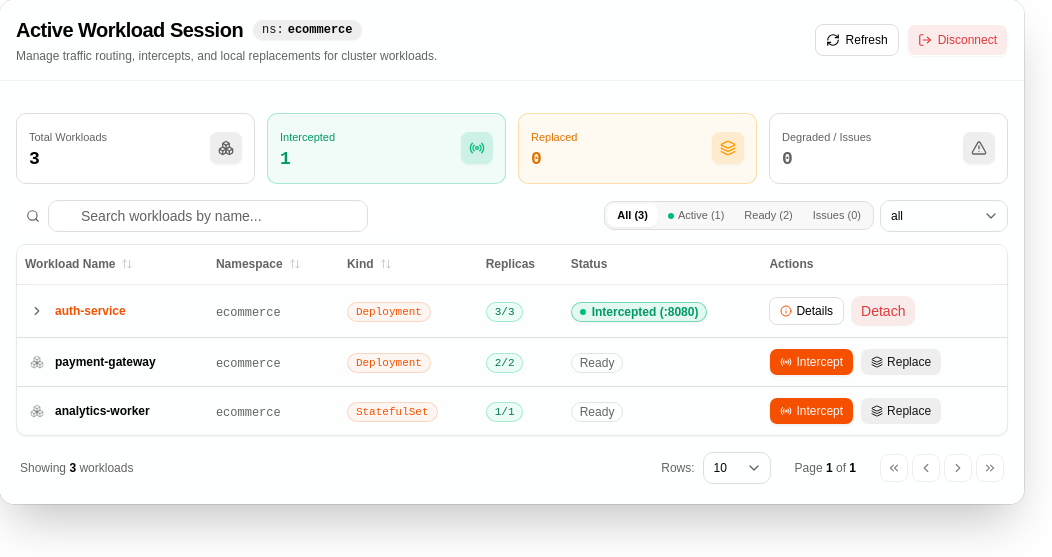
it: Workload Management Integration › should filter workloads by search query
Check: the text "auth-service" is shown, box [55,303,126,319]
Type "payment" into the field with placeholder "Search workloads by name..." at (208,216), box [48,200,368,232]
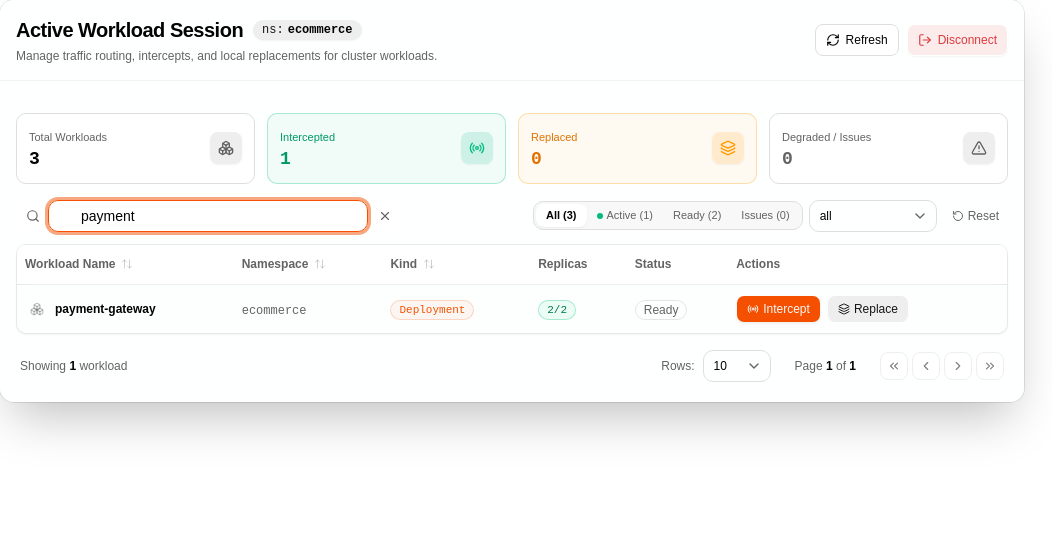
Check: the text "payment-gateway" is shown, box [55,301,156,317]
Check: the text "auth-service" is gone
Check: the text "analytics-worker" is gone
